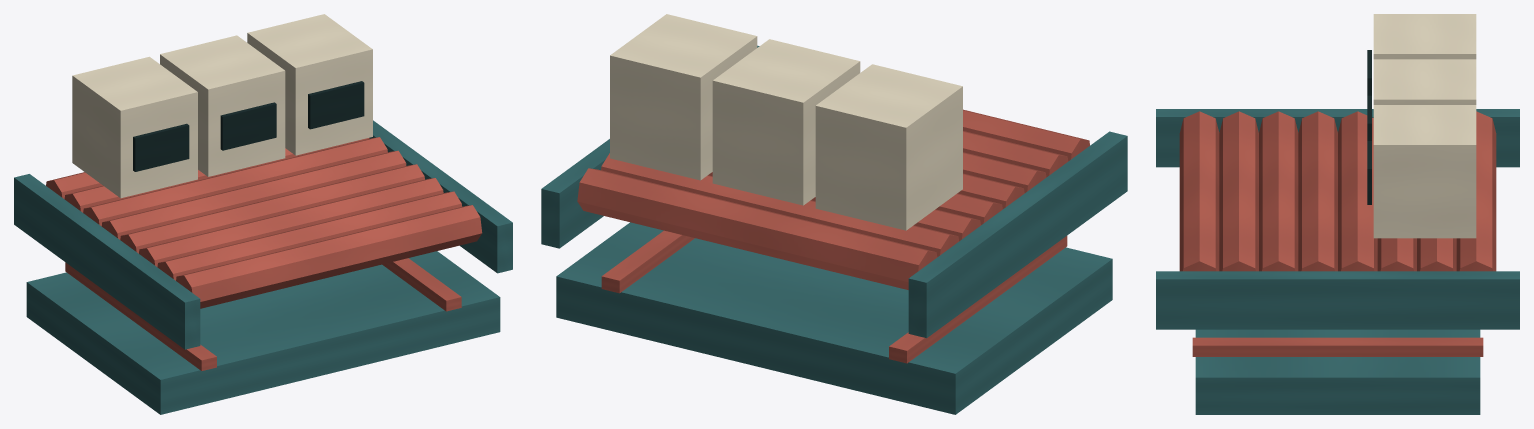
Rendered from atlas100-s039-a02.lod1.glb.
The picture shows the model from 3 angles, left to right: view 1: azimuth 30°, elevation 25°; view 2: azimuth 150°, elevation 25°; view 3: azimuth 270°, elevation 25°; orthographic projection. The views are drawn at different scales.
Visible parts, largest first — view 1: atlas100-s039-a02:part-000, atlas100-s039-a02:part-013, atlas100-s039-a02:part-011, atlas100-s039-a02:part-010, atlas100-s039-a02:part-015, atlas100-s039-a02:part-017, atlas100-s039-a02:part-009, atlas100-s039-a02:part-006, atlas100-s039-a02:part-005, atlas100-s039-a02:part-007, atlas100-s039-a02:part-008, atlas100-s039-a02:part-012 (+7 smaller); view 2: atlas100-s039-a02:part-000, atlas100-s039-a02:part-013, atlas100-s039-a02:part-015, atlas100-s039-a02:part-017, atlas100-s039-a02:part-011, atlas100-s039-a02:part-003, atlas100-s039-a02:part-004, atlas100-s039-a02:part-012, atlas100-s039-a02:part-010, atlas100-s039-a02:part-001, atlas100-s039-a02:part-002, atlas100-s039-a02:part-009 (+4 smaller); view 3: atlas100-s039-a02:part-012, atlas100-s039-a02:part-000, atlas100-s039-a02:part-017, atlas100-s039-a02:part-010, atlas100-s039-a02:part-009, atlas100-s039-a02:part-008, atlas100-s039-a02:part-007, atlas100-s039-a02:part-002, atlas100-s039-a02:part-006, atlas100-s039-a02:part-015, atlas100-s039-a02:part-013, atlas100-s039-a02:part-011 (+3 smaller).
Part boxes in pixels (bbox=[...]): atlas100-s039-a02:part-000: bbox=[26, 251, 500, 414]; atlas100-s039-a02:part-013: bbox=[72, 56, 197, 198]; atlas100-s039-a02:part-011: bbox=[14, 174, 200, 349]; atlas100-s039-a02:part-010: bbox=[176, 205, 482, 308]; atlas100-s039-a02:part-015: bbox=[160, 35, 285, 176]; atlas100-s039-a02:part-017: bbox=[247, 14, 372, 155]; atlas100-s039-a02:part-009: bbox=[157, 191, 462, 280]; atlas100-s039-a02:part-006: bbox=[101, 150, 406, 239]; atlas100-s039-a02:part-005: bbox=[83, 137, 387, 226]; atlas100-s039-a02:part-007: bbox=[120, 164, 424, 253]; atlas100-s039-a02:part-008: bbox=[139, 178, 443, 266]; atlas100-s039-a02:part-012: bbox=[369, 120, 512, 273]; atlas100-s039-a02:part-000: bbox=[556, 222, 1112, 414]; atlas100-s039-a02:part-013: bbox=[815, 64, 962, 230]; atlas100-s039-a02:part-015: bbox=[712, 39, 860, 205]; atlas100-s039-a02:part-017: bbox=[610, 14, 757, 180]; atlas100-s039-a02:part-011: bbox=[908, 131, 1127, 338]; atlas100-s039-a02:part-003: bbox=[577, 168, 937, 289]; atlas100-s039-a02:part-004: bbox=[601, 153, 958, 256]; atlas100-s039-a02:part-012: bbox=[541, 45, 759, 248]; atlas100-s039-a02:part-010: bbox=[963, 109, 1089, 161]; atlas100-s039-a02:part-001: bbox=[889, 236, 1067, 363]; atlas100-s039-a02:part-002: bbox=[601, 230, 694, 293]; atlas100-s039-a02:part-009: bbox=[963, 131, 1068, 177]; atlas100-s039-a02:part-012: bbox=[1156, 271, 1519, 329]; atlas100-s039-a02:part-000: bbox=[1195, 329, 1480, 414]; atlas100-s039-a02:part-017: bbox=[1373, 105, 1476, 238]; atlas100-s039-a02:part-010: bbox=[1179, 111, 1219, 271]; atlas100-s039-a02:part-009: bbox=[1219, 111, 1258, 271]; atlas100-s039-a02:part-008: bbox=[1259, 111, 1298, 271]; atlas100-s039-a02:part-007: bbox=[1298, 111, 1337, 271]; atlas100-s039-a02:part-002: bbox=[1192, 337, 1483, 356]; atlas100-s039-a02:part-006: bbox=[1338, 111, 1377, 271]; atlas100-s039-a02:part-015: bbox=[1373, 59, 1476, 104]; atlas100-s039-a02:part-013: bbox=[1373, 14, 1476, 59]; atlas100-s039-a02:part-011: bbox=[1156, 109, 1519, 167].
Bounding box in the file's own units: 2.64 × 1.73 × 2.3.
Materials: 4 (4 with a texture image).
